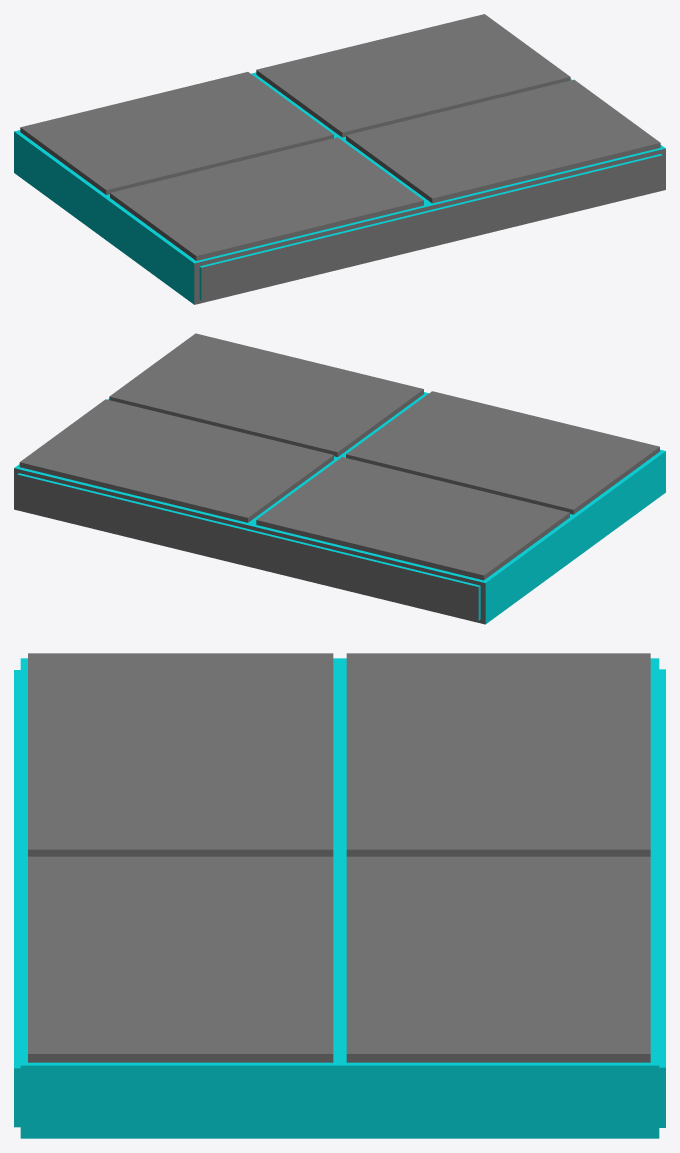
The model's file is Gray Platform.fbx.
3 renders of one model, top to bottom at view 1: azimuth 30°, elevation 25°; view 2: azimuth 150°, elevation 25°; view 3: azimuth 270°, elevation 25°, orthographic. The views are drawn at different scales.
Parts seen in each view (by area): view 1: pCube4; view 2: pCube4; view 3: pCube4.
Part boxes in pixels (x1=…): pCube4: x1=14, y1=14, x2=665, y2=304; pCube4: x1=14, y1=333, x2=665, y2=624; pCube4: x1=14, y1=653, x2=665, y2=1138.
Size of the model in its own units: 10.98 by 1.03 by 7.43.
